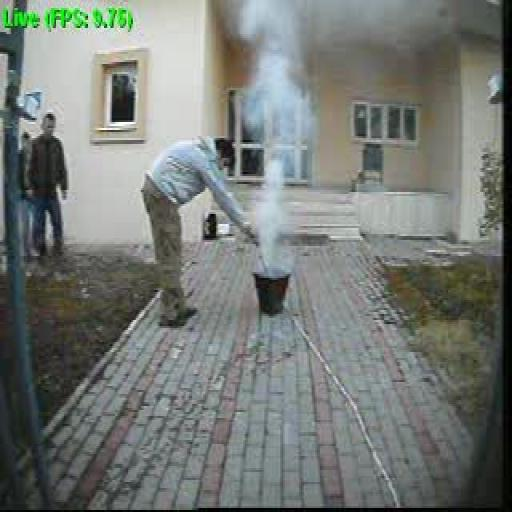smoke: (233, 0, 297, 271)
